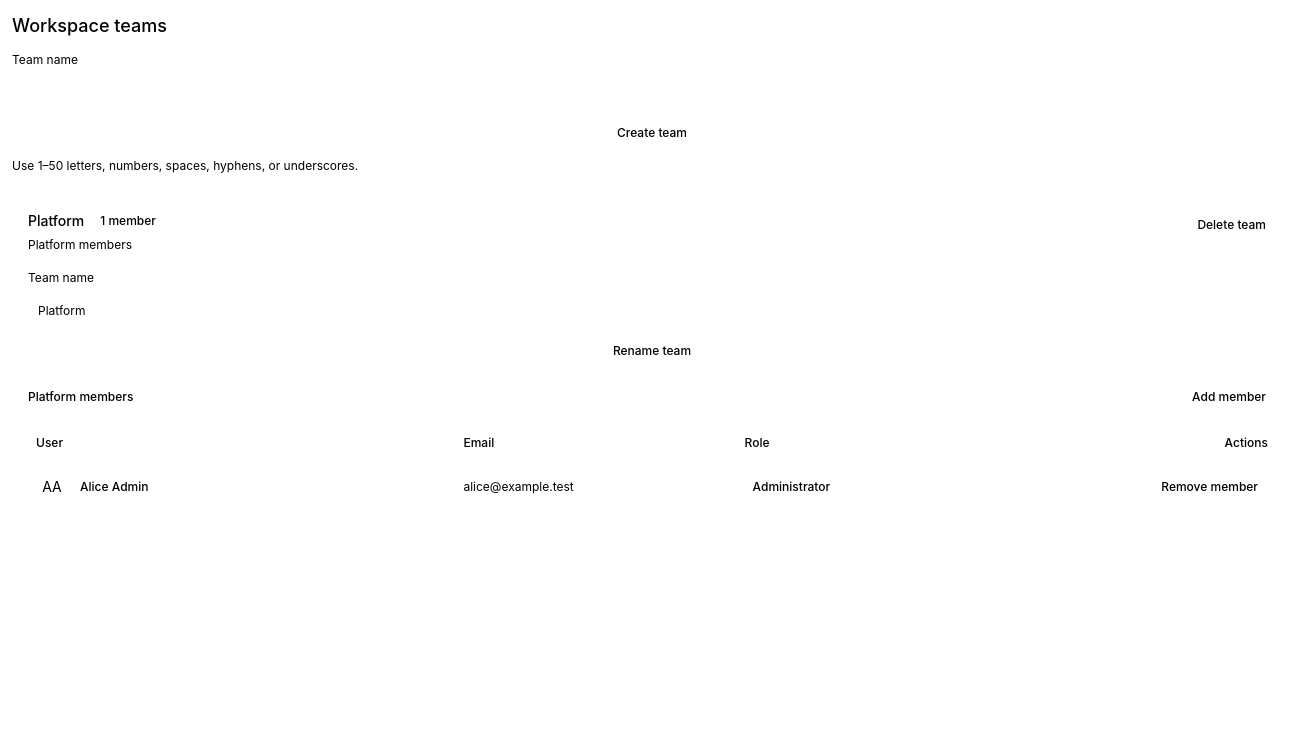
keeps a confirmed removal visible and offers refresh recovery without leaking detail
Step 1. Click the button with aria-label "Remove Alice Admin" → (1210, 486), box [1151,472,1268,500]
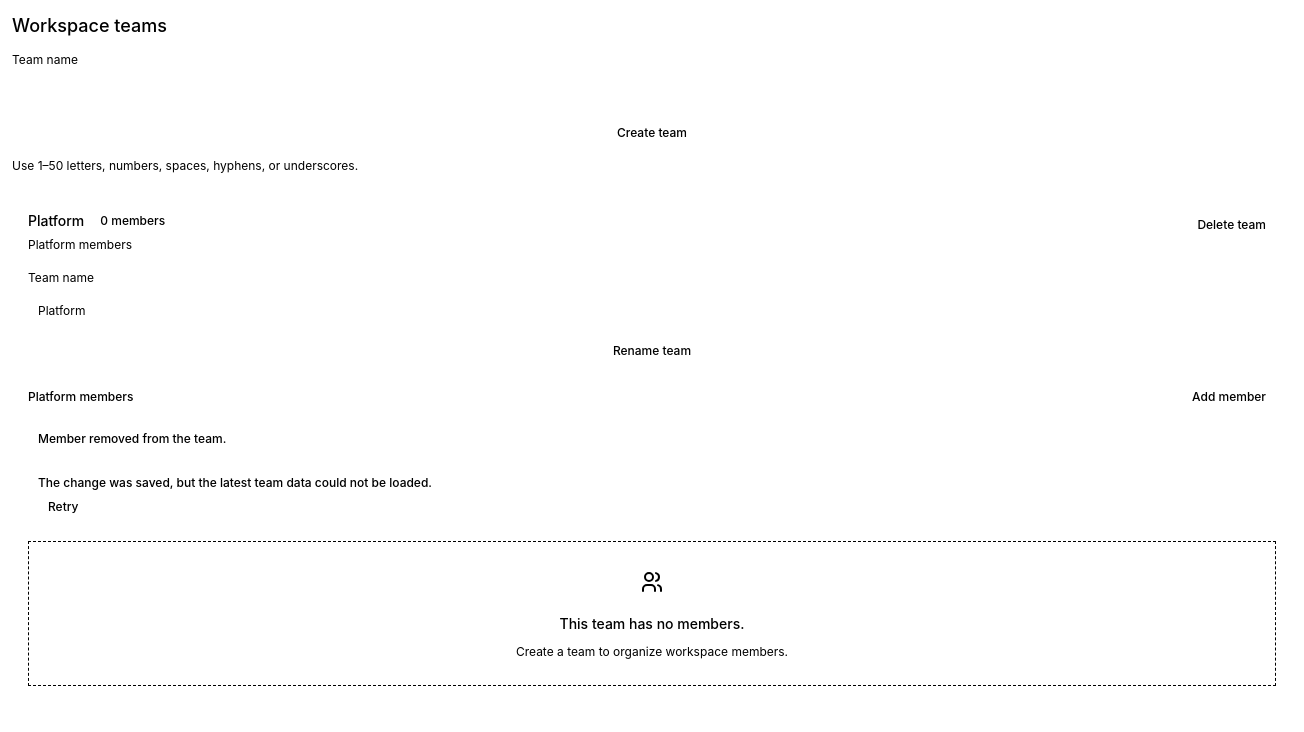
Expected: the text "The change was saved, but the latest team data could not be loaded." is shown, [38,474,432,490]
Expected: the text "Member removed from the team." is shown, [38,430,226,446]
Expected: the text "Alice Admin" is gone
Step 2. Click the button "Retry" → (63, 506), box [38,492,88,520]
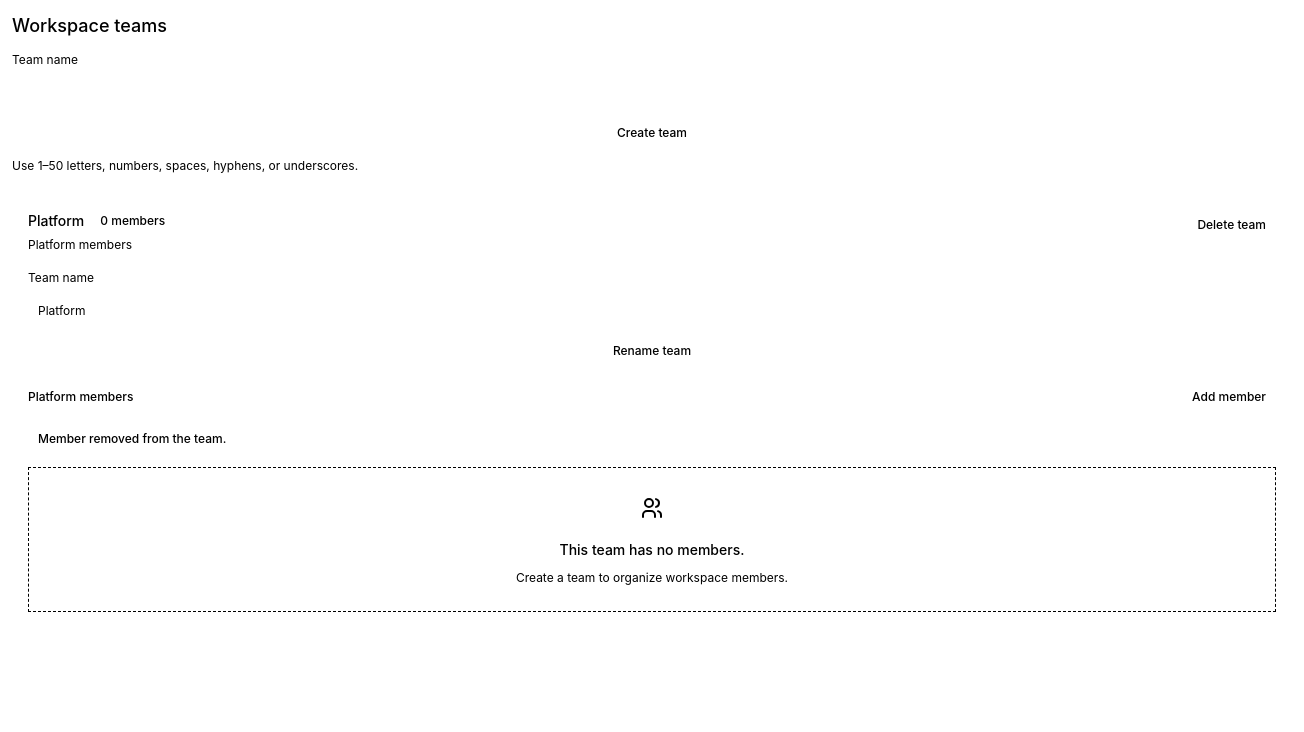
Expected: the text "The change was saved, but the latest team data could not be loaded." is gone
